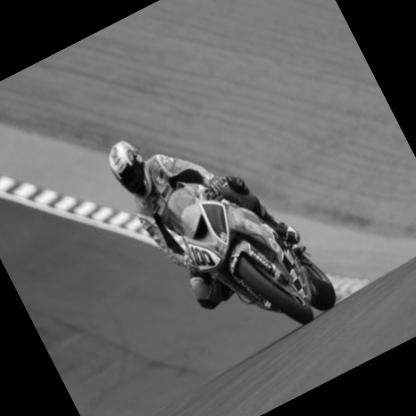moto: (121, 131, 380, 383)
